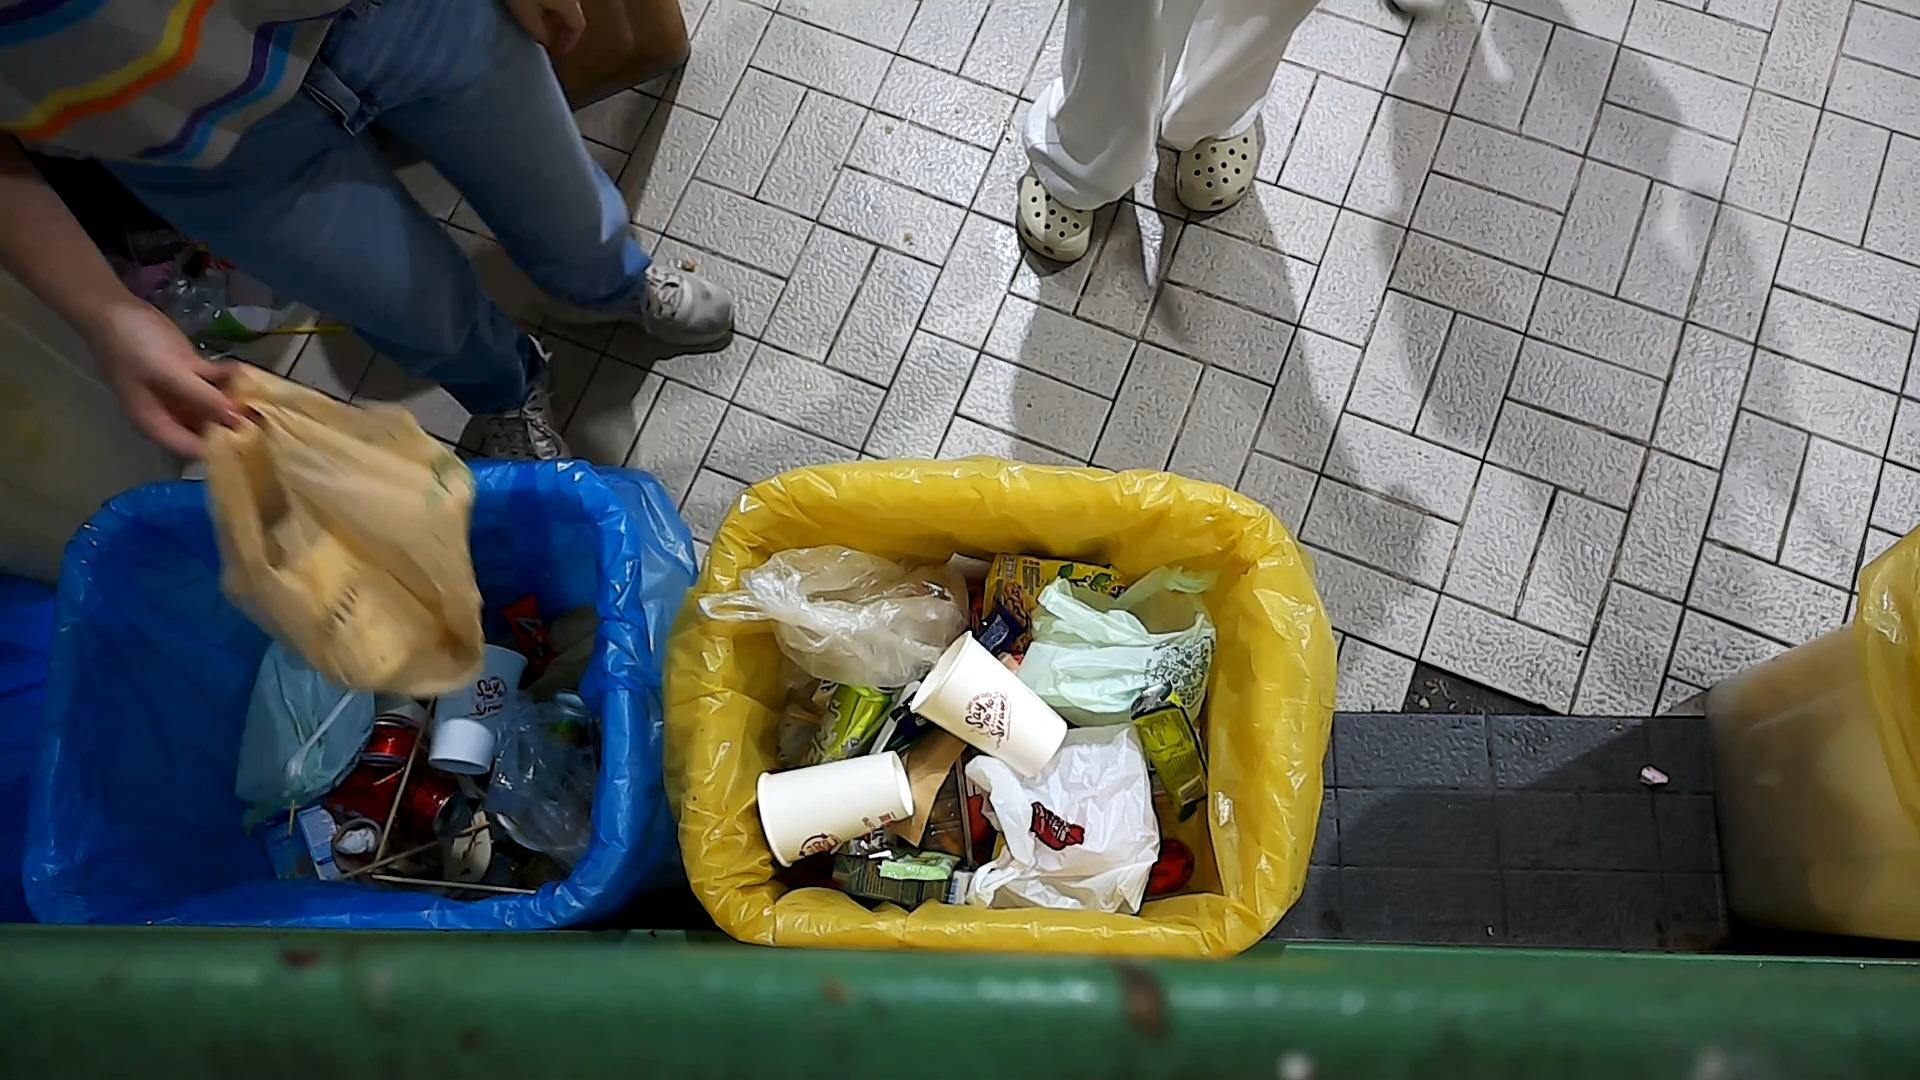can: (798, 671, 891, 769), (388, 762, 468, 835), (352, 717, 415, 764)
dirty food container: (328, 815, 394, 877)
filled plastic bag: (167, 361, 492, 692), (702, 541, 973, 688), (227, 630, 369, 820)
milk carton: (824, 847, 975, 910), (260, 800, 359, 881)
plastic bag: (964, 708, 1154, 910), (1017, 568, 1213, 721)
plastic cutlery: (272, 676, 367, 794)
snack packaging: (1143, 680, 1204, 831), (840, 832, 969, 882)
sticks: (368, 684, 436, 868), (335, 820, 487, 881), (364, 866, 538, 893)
zero waste cup: (909, 633, 1069, 773), (753, 745, 915, 868), (431, 638, 530, 777)
